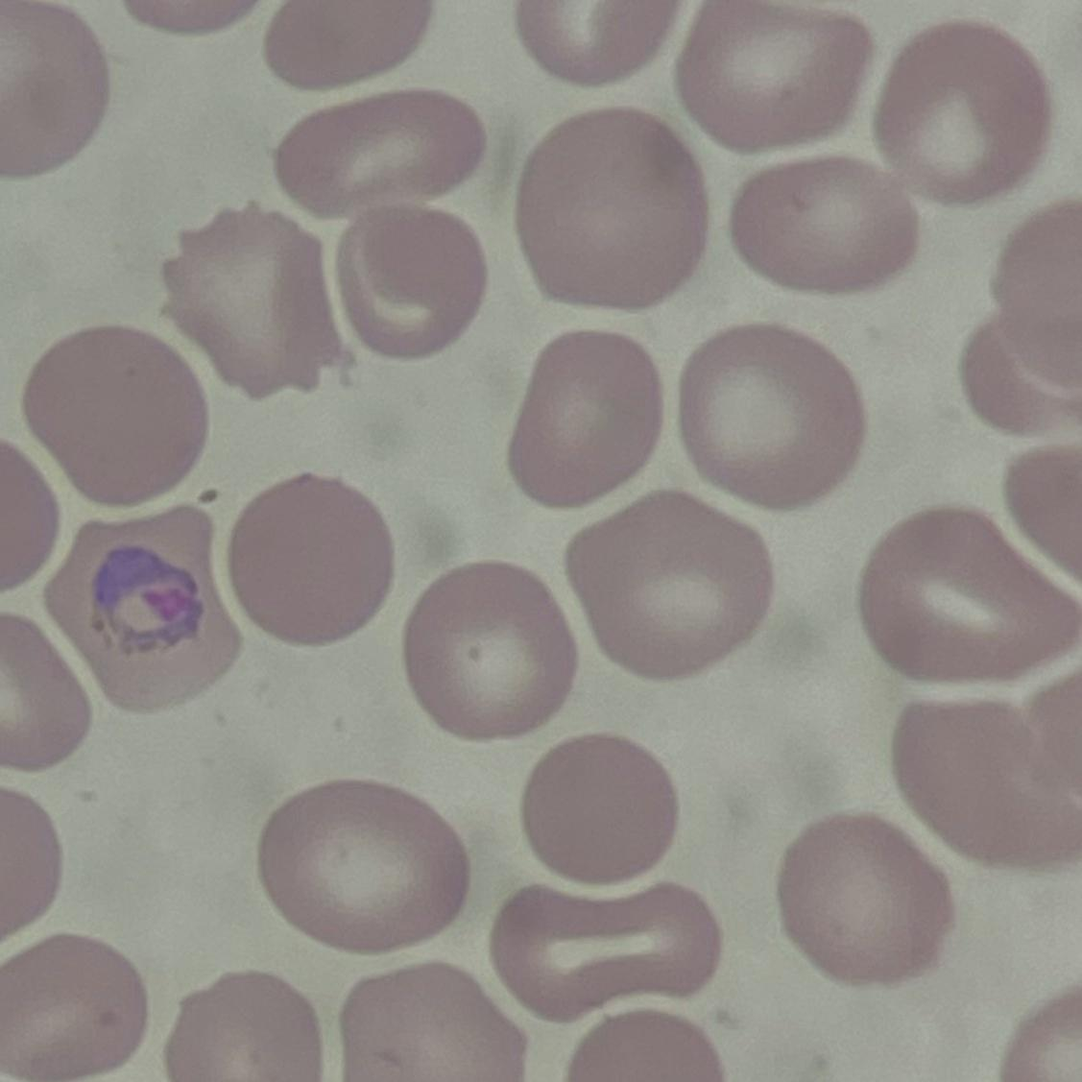Infected: (48, 507, 236, 721)
Uninfected: (854, 510, 1072, 684), (163, 206, 355, 398), (518, 110, 699, 313), (573, 494, 773, 676), (490, 875, 722, 1026), (259, 782, 473, 943), (22, 327, 214, 503), (682, 327, 863, 511), (400, 555, 575, 738), (874, 20, 1046, 204), (771, 808, 948, 981), (893, 696, 1082, 857), (233, 472, 396, 650), (682, 0, 865, 155), (509, 327, 658, 516), (278, 84, 485, 219), (515, 728, 684, 879), (733, 158, 912, 296), (330, 212, 490, 362), (336, 958, 526, 1082), (0, 0, 115, 183), (0, 929, 133, 1082), (170, 968, 319, 1082)
